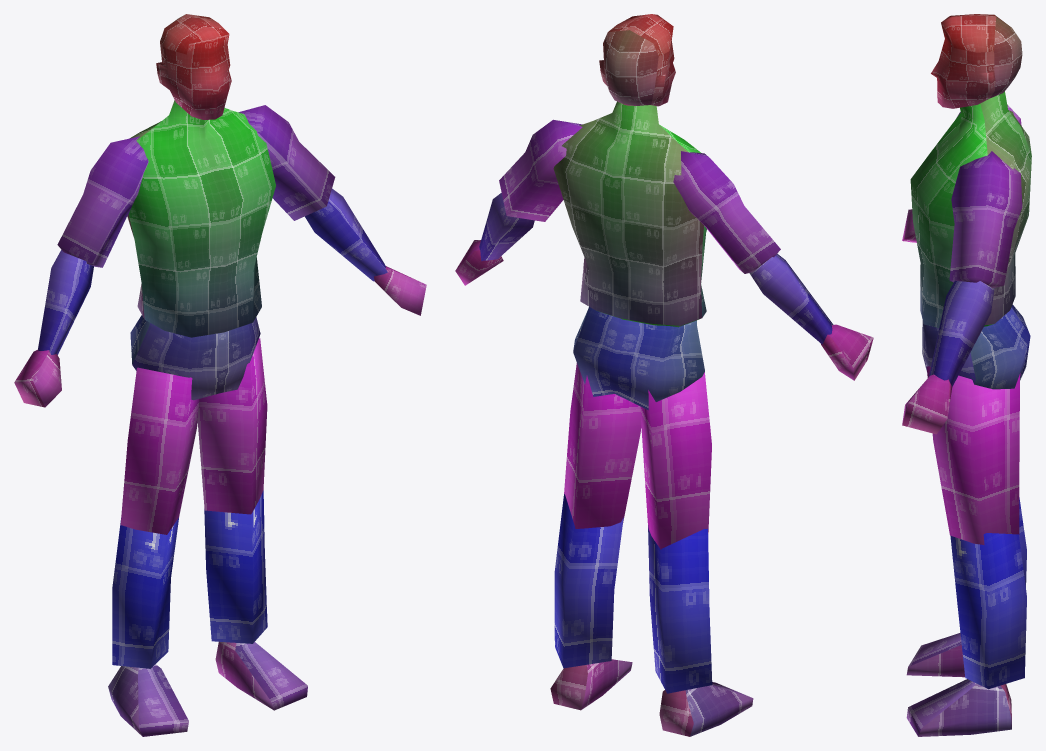
The model's file is male.gltf.
3 views of the same model, side by side, from view 1: azimuth 30°, elevation 25°; view 2: azimuth 150°, elevation 25°; view 3: azimuth 270°, elevation 25° (orthographic).
Parts seen in each view (by area): view 1: Object_2; view 2: Object_2; view 3: Object_2.
Boxes of the visible parts, box(x1,y1,x2,y2) form: Object_2: box(14, 14, 426, 736); Object_2: box(455, 14, 873, 736); Object_2: box(902, 14, 1031, 736).
Size of the model in its own units: 1.7 by 2.79 by 0.4833.
